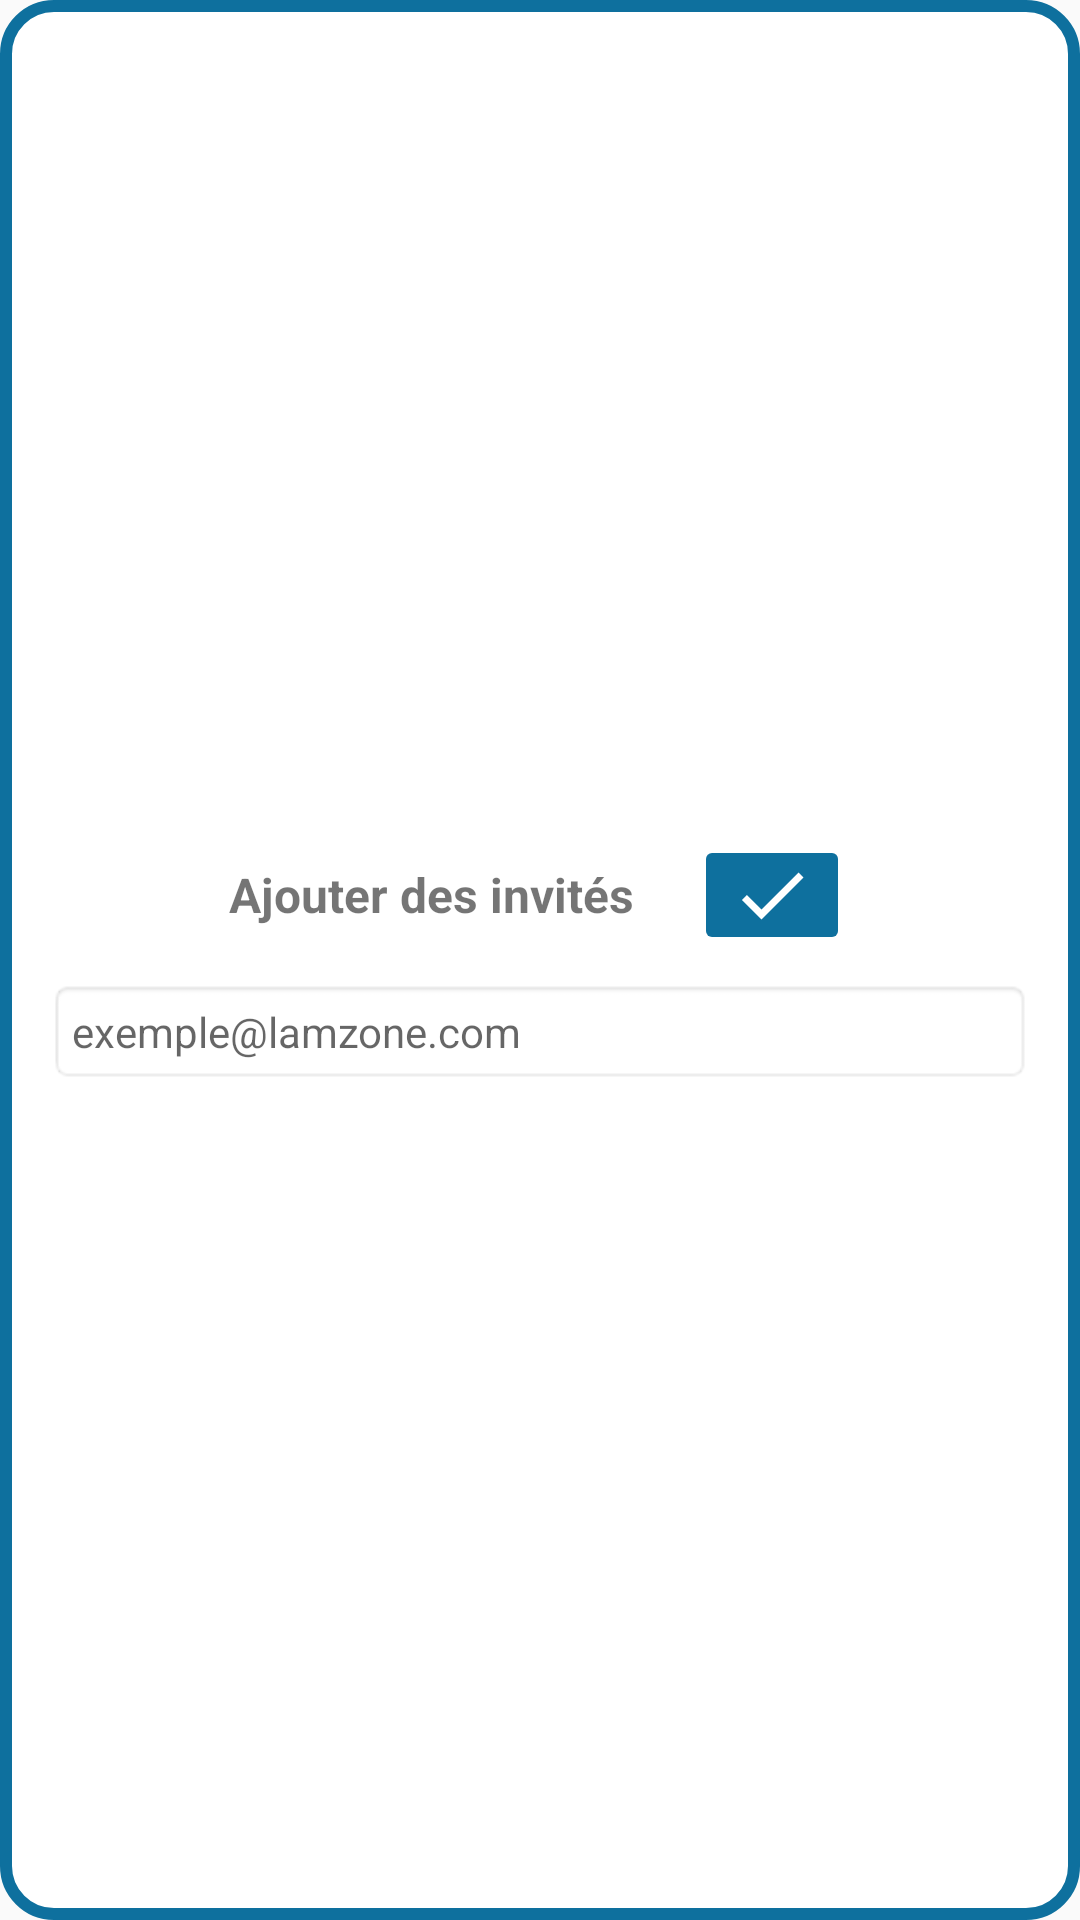

Screen size 1080 × 1920. Icon name, then its box in pixels as box(x1, y1, x2, y2):
validate: box(706, 853, 838, 937)
